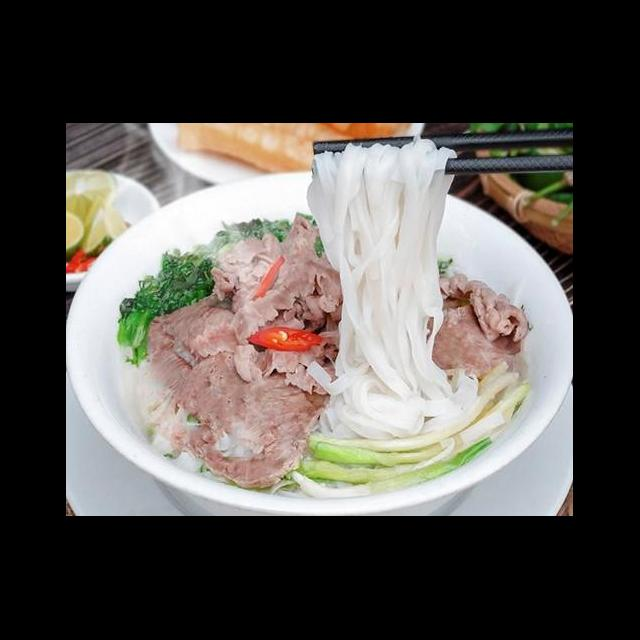banh pho: (302, 132, 480, 442)
pho bo: (82, 146, 574, 516)
thit bo: (150, 342, 344, 494), (185, 208, 324, 364), (142, 280, 278, 416), (408, 298, 526, 380), (432, 270, 530, 358)
